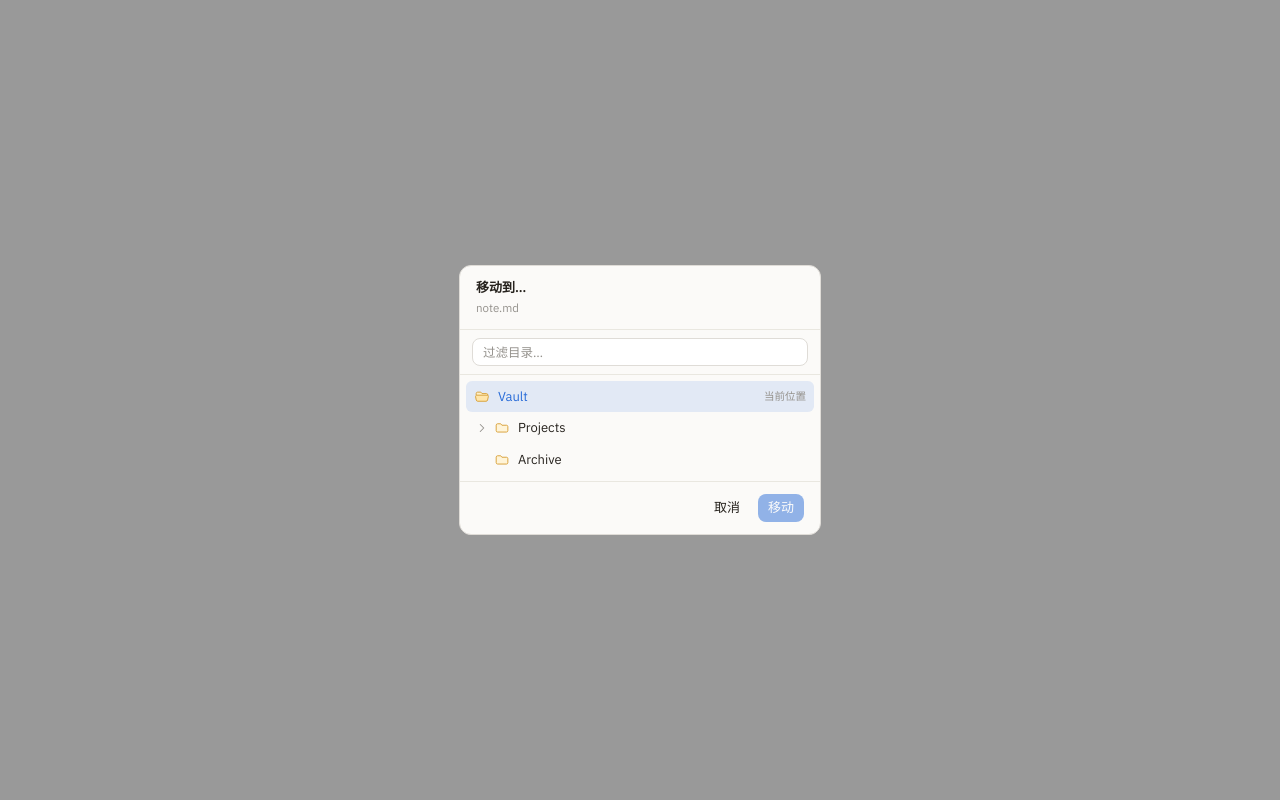
Scenario: MoveDialog collapsible tree › reveals sub-folder after clicking expand on parent
Click the button titled "展开 Projects" at (482, 428), box [470,416,494,440]
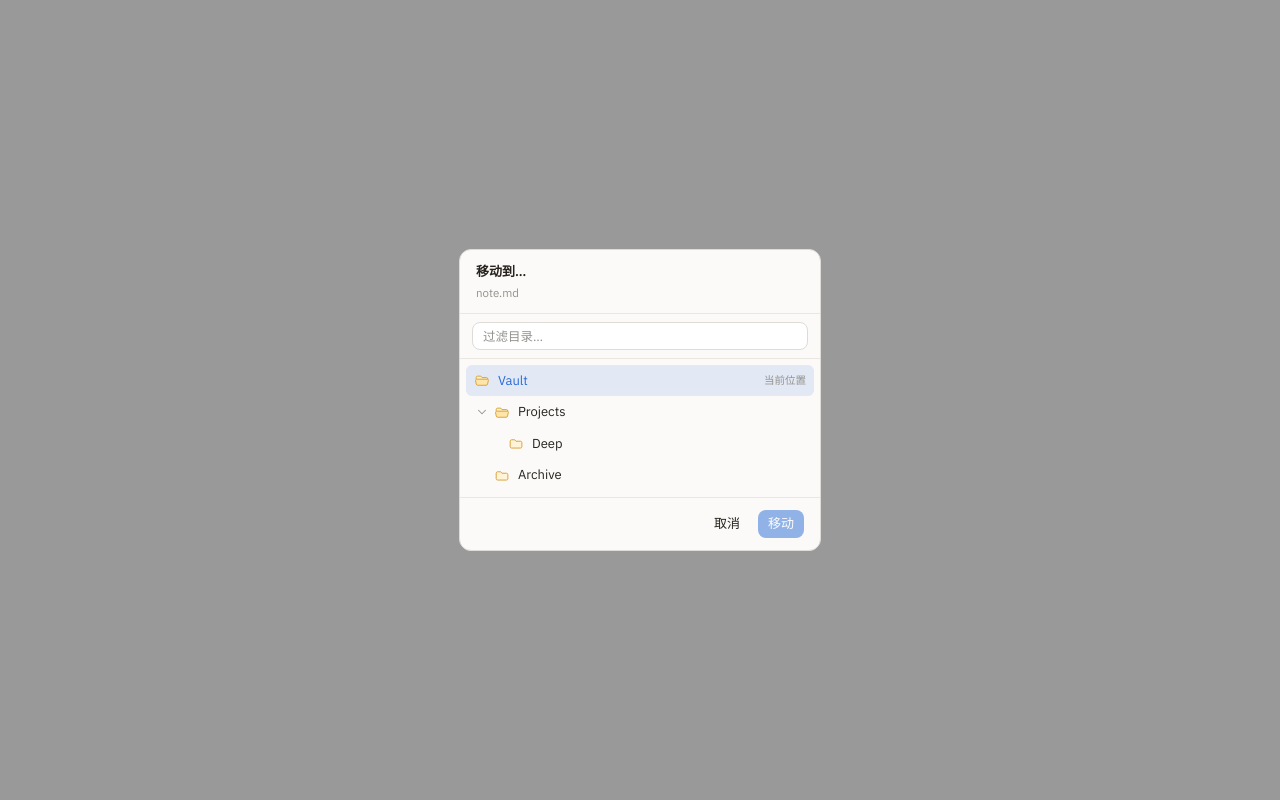
Now the text "Deep" is shown, box [532,434,562,453]
